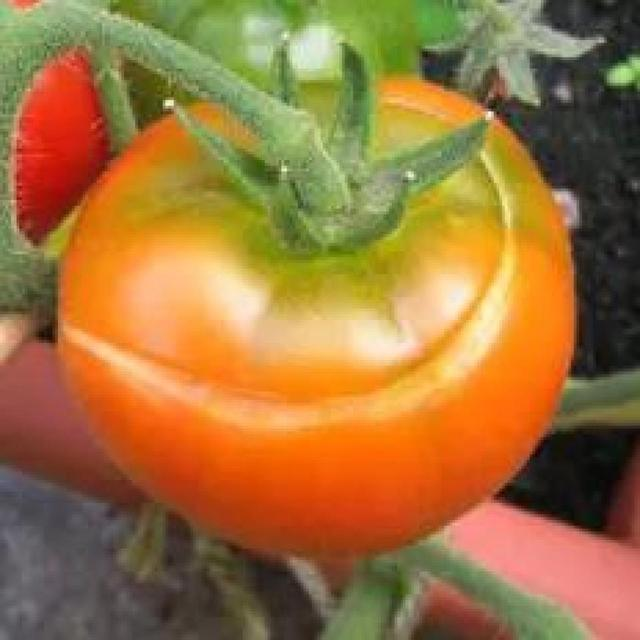Cracking Fruit: (34, 55, 353, 308)
